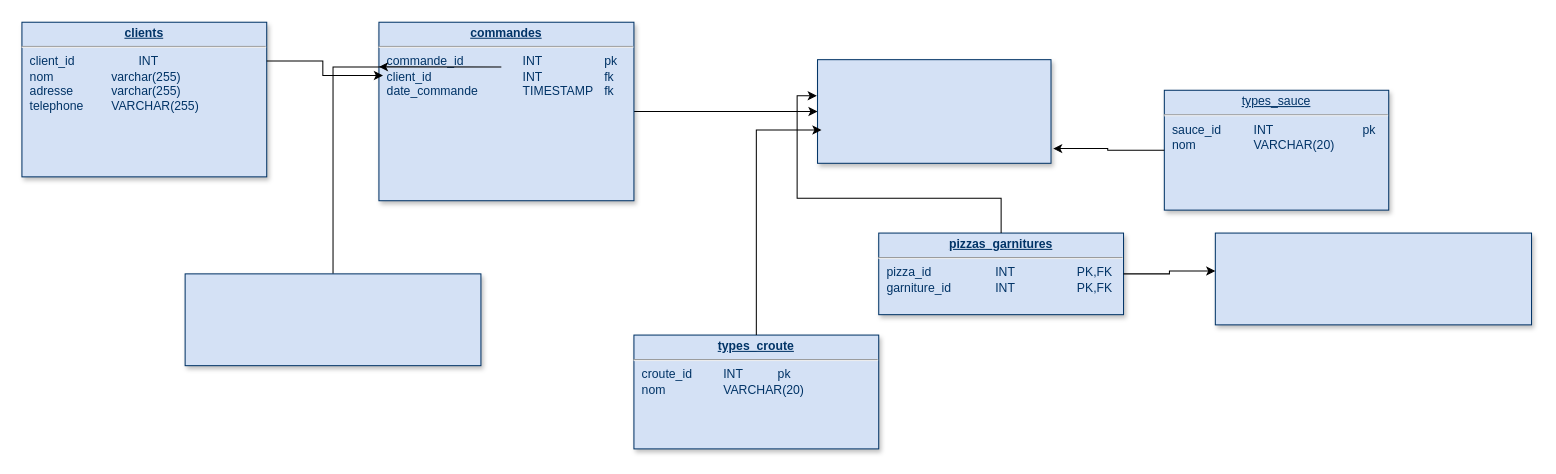
Some shapes in this 1556 by 474 pixel diagram are drawn without their labels. The shapes that lost their labels are listed below. From the top down, each one's centre as x and y in pixels, then its label:
At (934,112): "pizzas pizza_id I NT P K commande_id INT FK croute_id INT FK sauce_id INT FK".
At (1374,280): "garnitures garniture_id INT pk nom VARCHAR(20)".
At (333,321): "commandes_attente commande_id INT pk, fk date_ajout TIMESTAMP".
